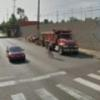crosswalks: (2, 69, 100, 100)
